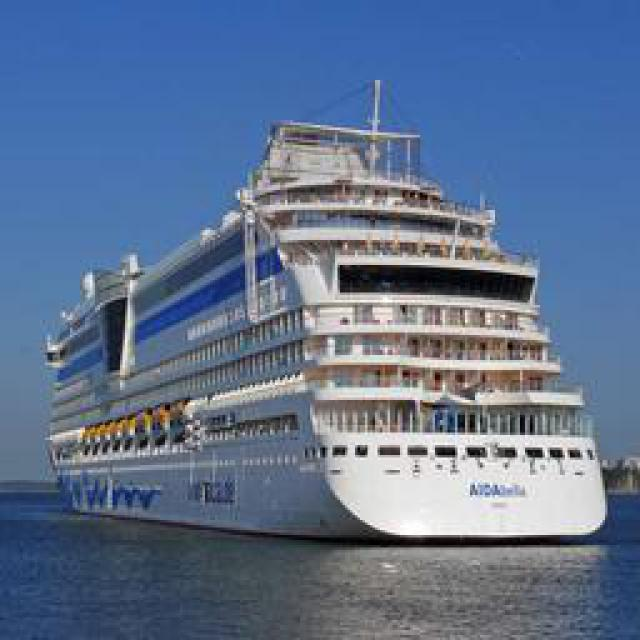Ship: (37, 77, 617, 537)
